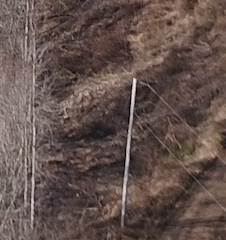pole: (115, 72, 158, 230)
